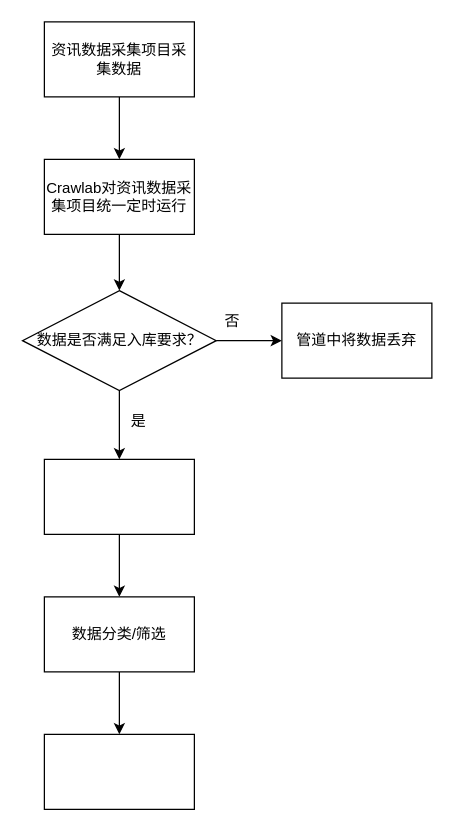
The diagram is 454 pixels wide and 831 high, and some of its shapes have lost their labels. The shapes that lost their labels are listed below. From the top down, each one's centre as x and y in pixels, then its label:
At (x=118, y=496): "数据入库".
At (x=118, y=771): "前端展示".
